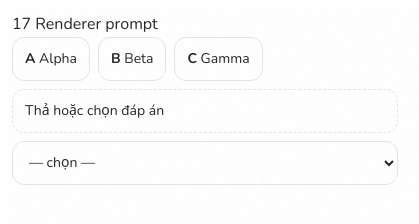
Test: matching offers tap and native-select paths
Click the button "B Beta". click: (132, 59)
box: [98,37,166,81]
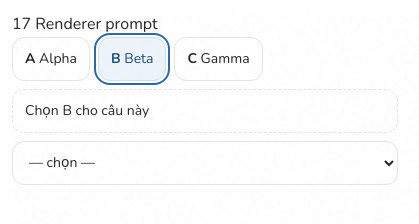
Click the button named "Renderer prompt". click: (87, 111)
box: [12,89,398,133]
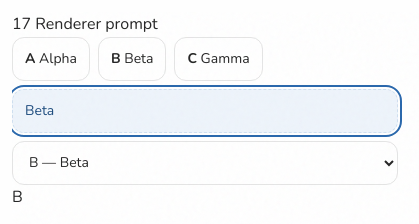
Result: the text with test id "value" reads "B" at [12,186,23,208]
Result: the dropdown labelled "17 Renderer prompt" shows "B — Beta" at [12,141,398,185]
Result: the button named "Renderer prompt" reads "Beta" at [12,89,398,133]
